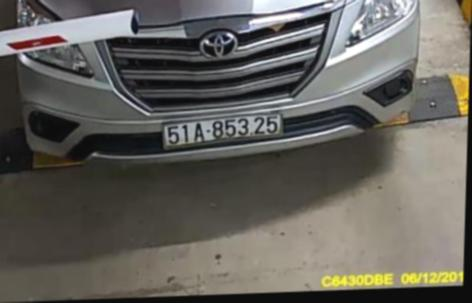License_Plate: (153, 111, 286, 149)
